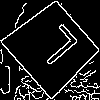L: (27, 22, 80, 74)
